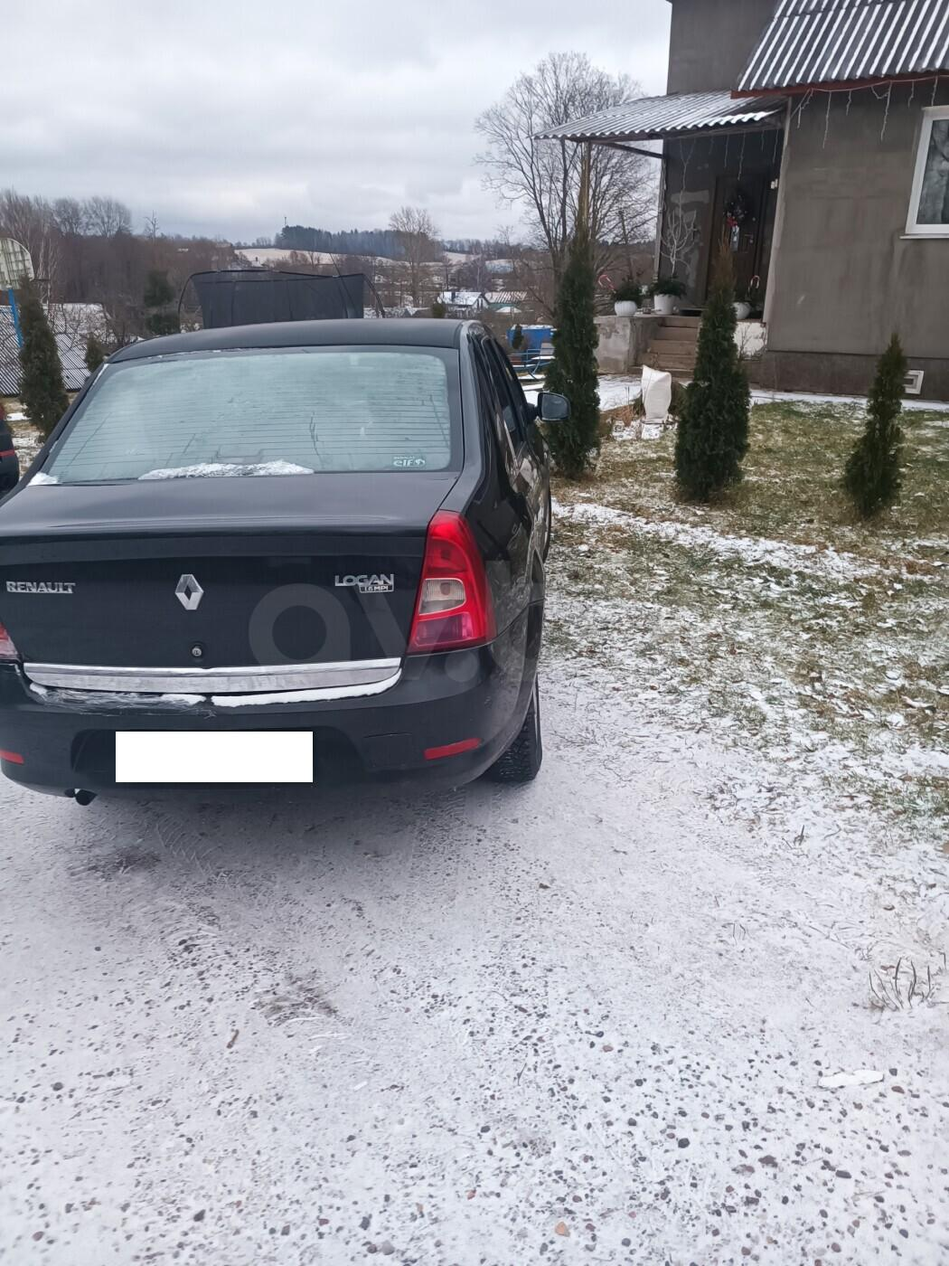Logan_2008-2015: (0, 309, 553, 810)
